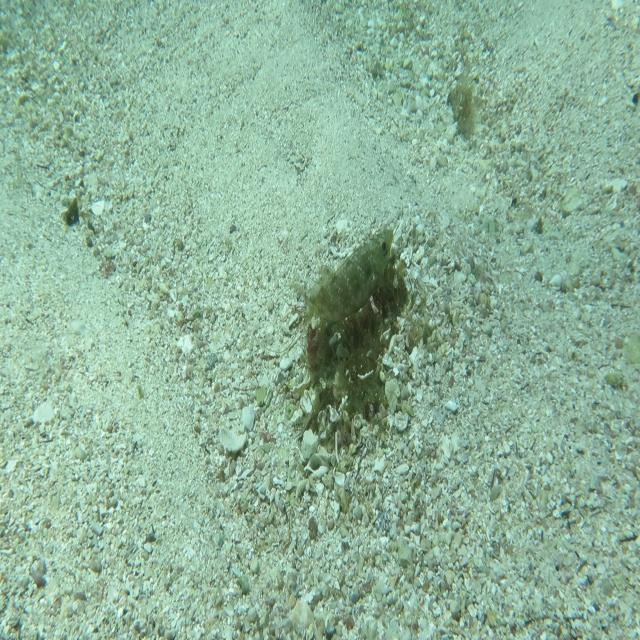FAN: (288, 228, 394, 328)
core_nest: (361, 285, 400, 326)
nest: (283, 245, 413, 454)
vegetation: (447, 71, 477, 138), (59, 196, 81, 228)
